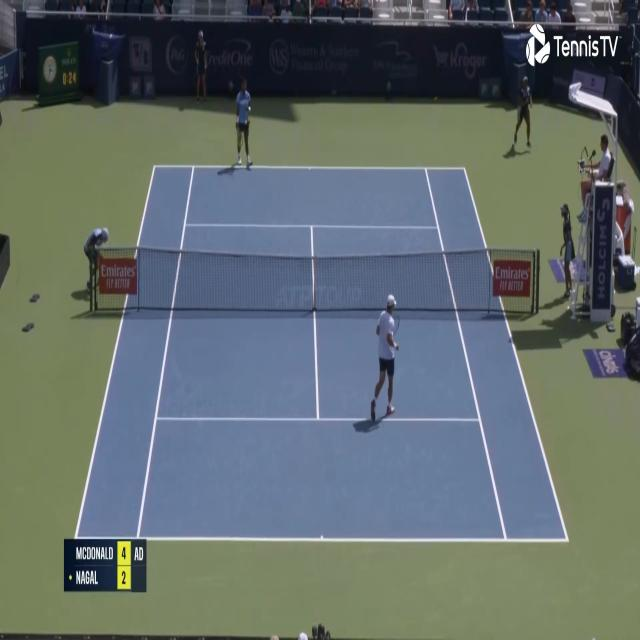tennis-player: (367, 290, 400, 428), (233, 72, 255, 172)
